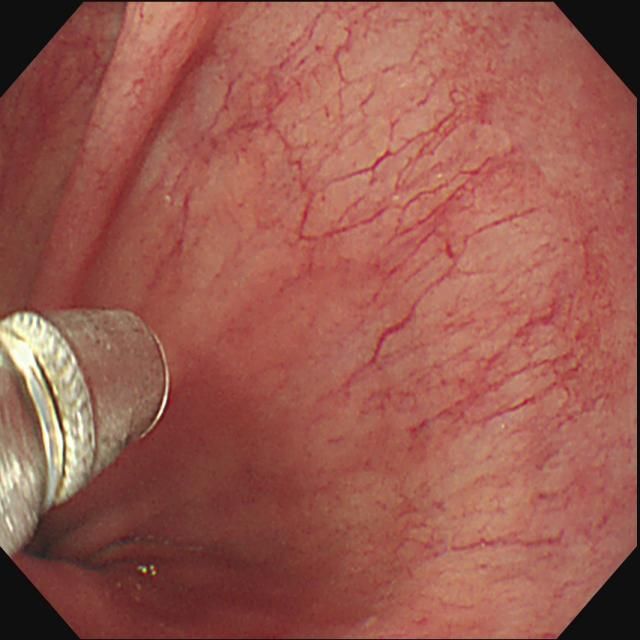K: (2, 308, 175, 559)
